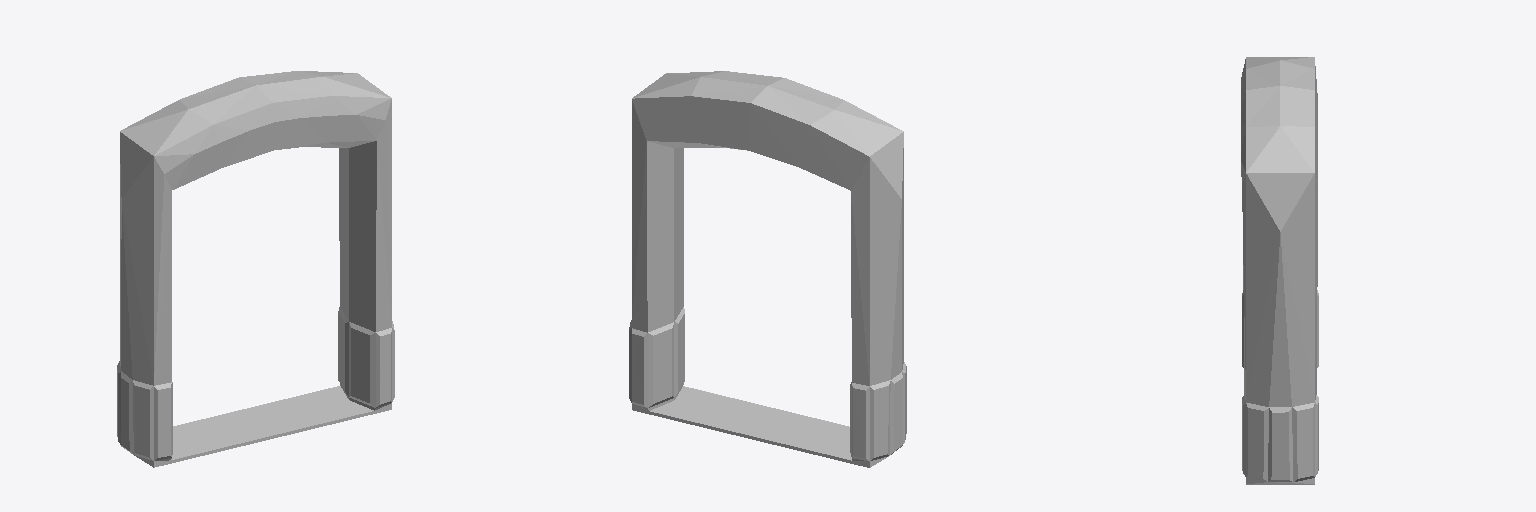
File: PuzzleDoorFrame.obj
3 views of the same model, side by side, from view 1: azimuth 30°, elevation 25°; view 2: azimuth 150°, elevation 25°; view 3: azimuth 270°, elevation 25° (orthographic).
Size of the model in its own units: 5.59 by 6.78 by 1.42.